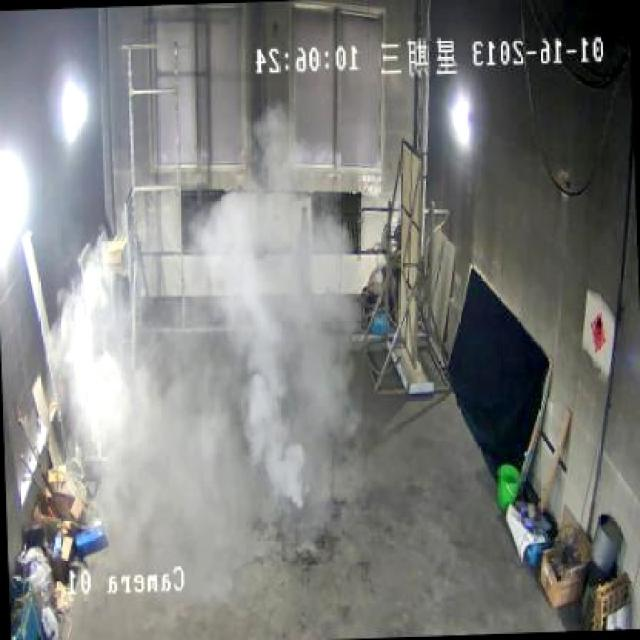smoke: (92, 164, 339, 498)
